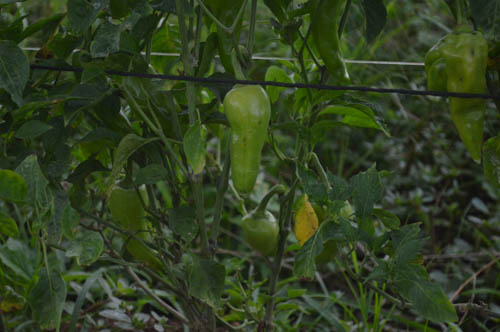ChiliPepper: (445, 36, 485, 161), (226, 87, 267, 198), (111, 189, 152, 257), (239, 215, 283, 255)
